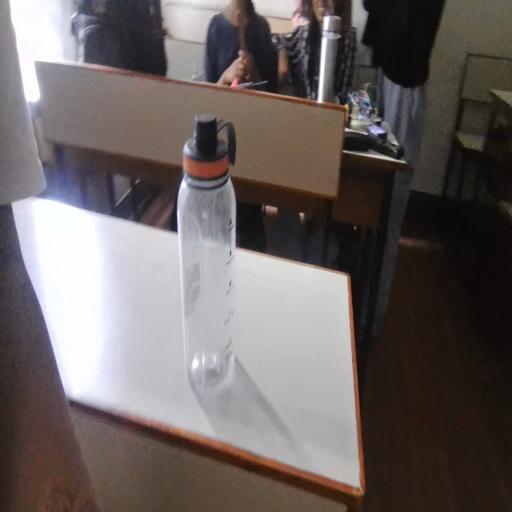Bottle: (172, 96, 259, 497)
